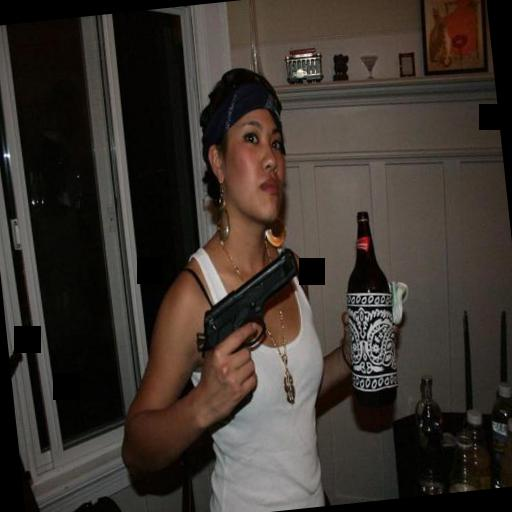Handgun: (190, 244, 304, 375)
